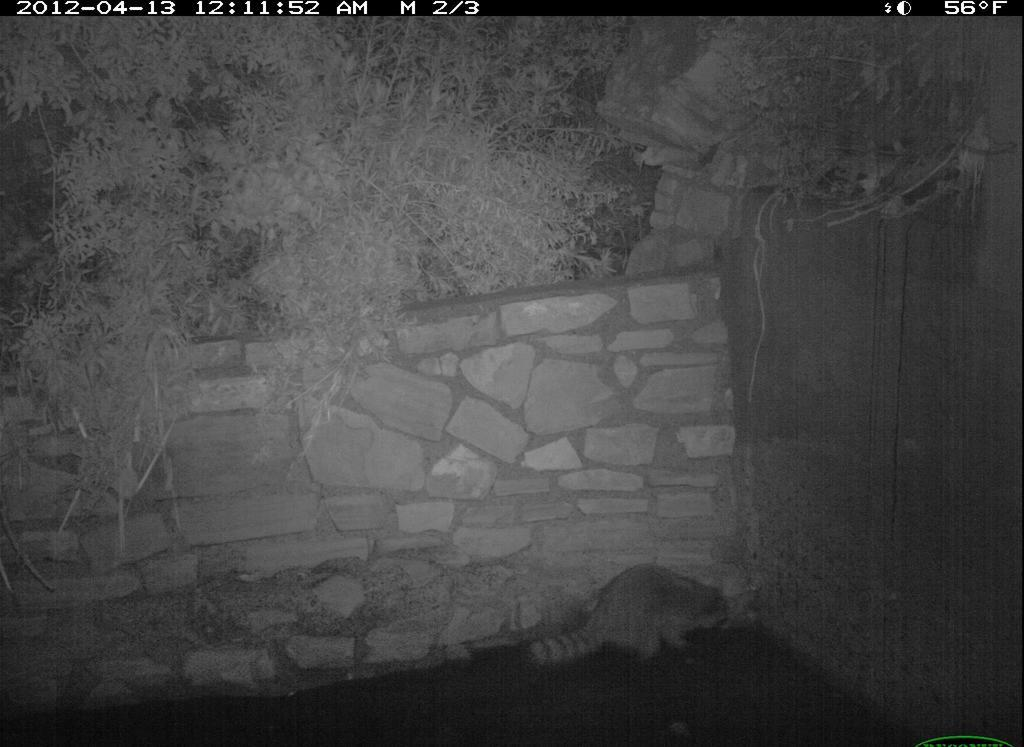raccoon: (520, 559, 745, 684)
